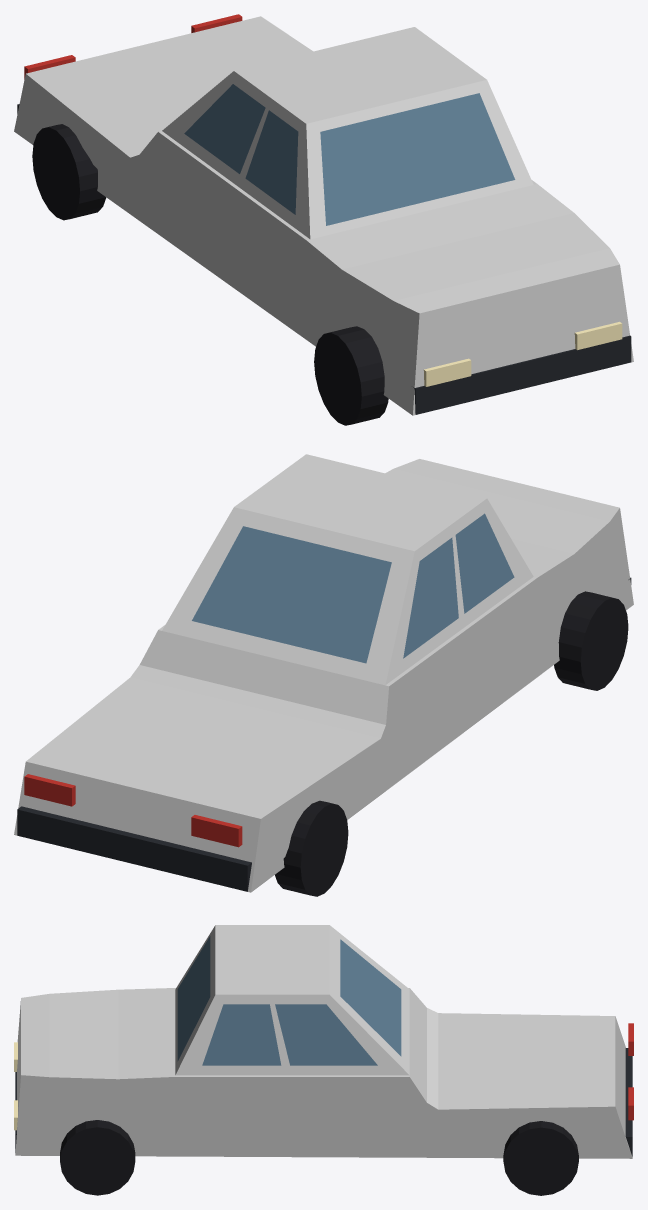
Rendered from pickup_truck.glb.
The picture shows the model from 3 angles, top to bottom: view 1: azimuth 30°, elevation 25°; view 2: azimuth 150°, elevation 25°; view 3: azimuth 270°, elevation 25°; orthographic projection. The views are drawn at different scales.
Visible parts, largest first — view 1: body, cabin, glass_screen, bumper_nose, wheel_1_L_tyre, wheel_0_L_tyre, glass_side_0_L, glass_side_1_L, head_R, head_L; view 2: body, cabin, glass_back, bumper_tail, wheel_1_L_tyre, wheel_0_L_tyre, glass_side_0_L, glass_side_1_L, tail_R, tail_L; view 3: body, cabin, wheel_1_R_tyre, wheel_0_R_tyre, glass_side_0_R, glass_side_1_R, glass_back, glass_screen, bumper_tail.
Boxes of the visible parts, x1,y1,x2,y2 form: body: (14,16,633,415); cabin: (162,27,533,239); glass_screen: (320,93,515,225); bumper_nose: (413,335,631,414); wheel_1_L_tyre: (314,326,388,425); wheel_0_L_tyre: (32,124,106,220); glass_side_0_L: (184,84,265,173); glass_side_1_L: (245,110,298,214); head_R: (574,321,622,350); head_L: (423,358,471,386); body: (14,459,633,892); cabin: (162,454,533,685); glass_back: (192,526,391,663); bumper_tail: (17,806,251,891); wheel_1_L_tyre: (554,591,628,690); wheel_0_L_tyre: (275,800,348,896); glass_side_0_L: (403,537,458,658); glass_side_1_L: (455,513,514,613); tail_R: (24,774,75,806); tail_L: (191,815,242,847); body: (15,988,632,1158); cabin: (175,925,409,1075); wheel_1_R_tyre: (60,1120,135,1195); wheel_0_R_tyre: (503,1121,578,1195); glass_side_0_R: (275,1004,377,1065); glass_side_1_R: (202,1004,281,1065); glass_back: (340,939,401,1056); glass_screen: (177,936,210,1061); bumper_tail: (625,1048,632,1156).
Size of the model in its own units: 2.14 by 1.78 by 5.42.
